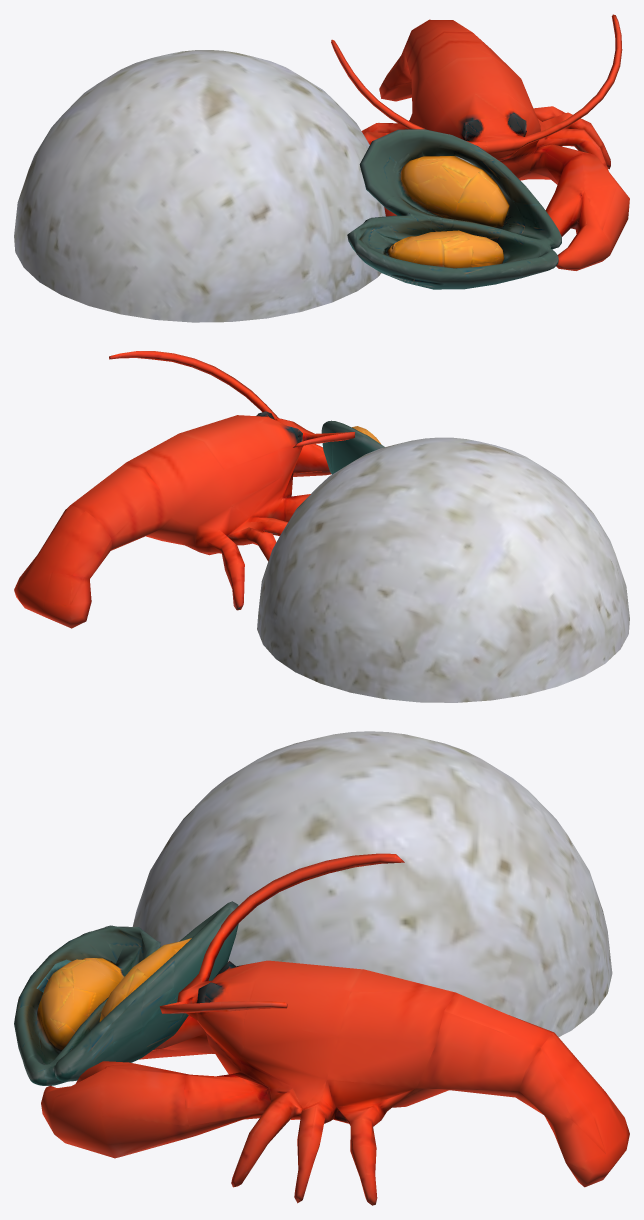
File: SeafoodDeluxeRice.fbx
3 views of the same model, one above another, from view 1: azimuth 30°, elevation 25°; view 2: azimuth 150°, elevation 25°; view 3: azimuth 270°, elevation 25° (orthographic). The views are drawn at different scales.
Visible parts, largest first — view 1: Com, input.004, input; view 2: Com, input.004, input; view 3: Com, input.004, input.
Boxes of the visible parts, x1,y1,x2,y2 form: Com: (14,50,385,322); input.004: (331,14,629,270); input: (347,129,561,289); Com: (257,437,629,702); input.004: (14,351,354,628); input: (321,420,384,474); Com: (132,731,612,1037); input.004: (41,853,629,1205); input: (14,901,238,1085).
Size of the model in its own units: 328 by 100 by 254.
3 materials, 3 textured.
